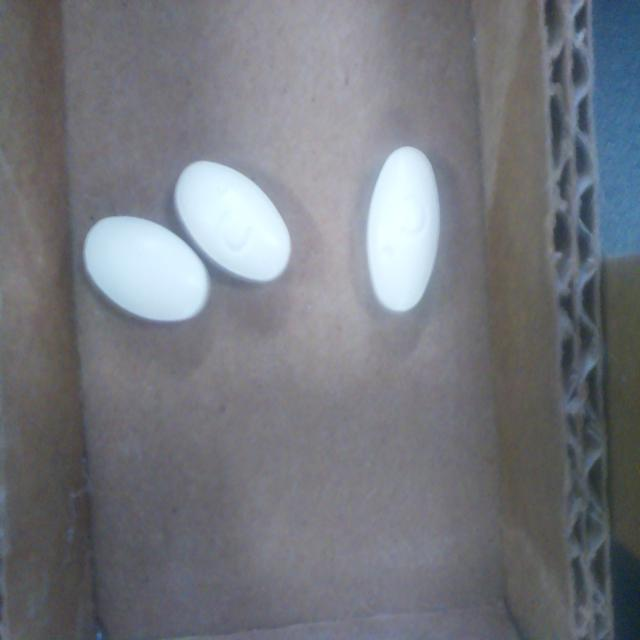pill: (174, 161, 291, 282), (83, 216, 210, 322), (367, 147, 440, 311)
